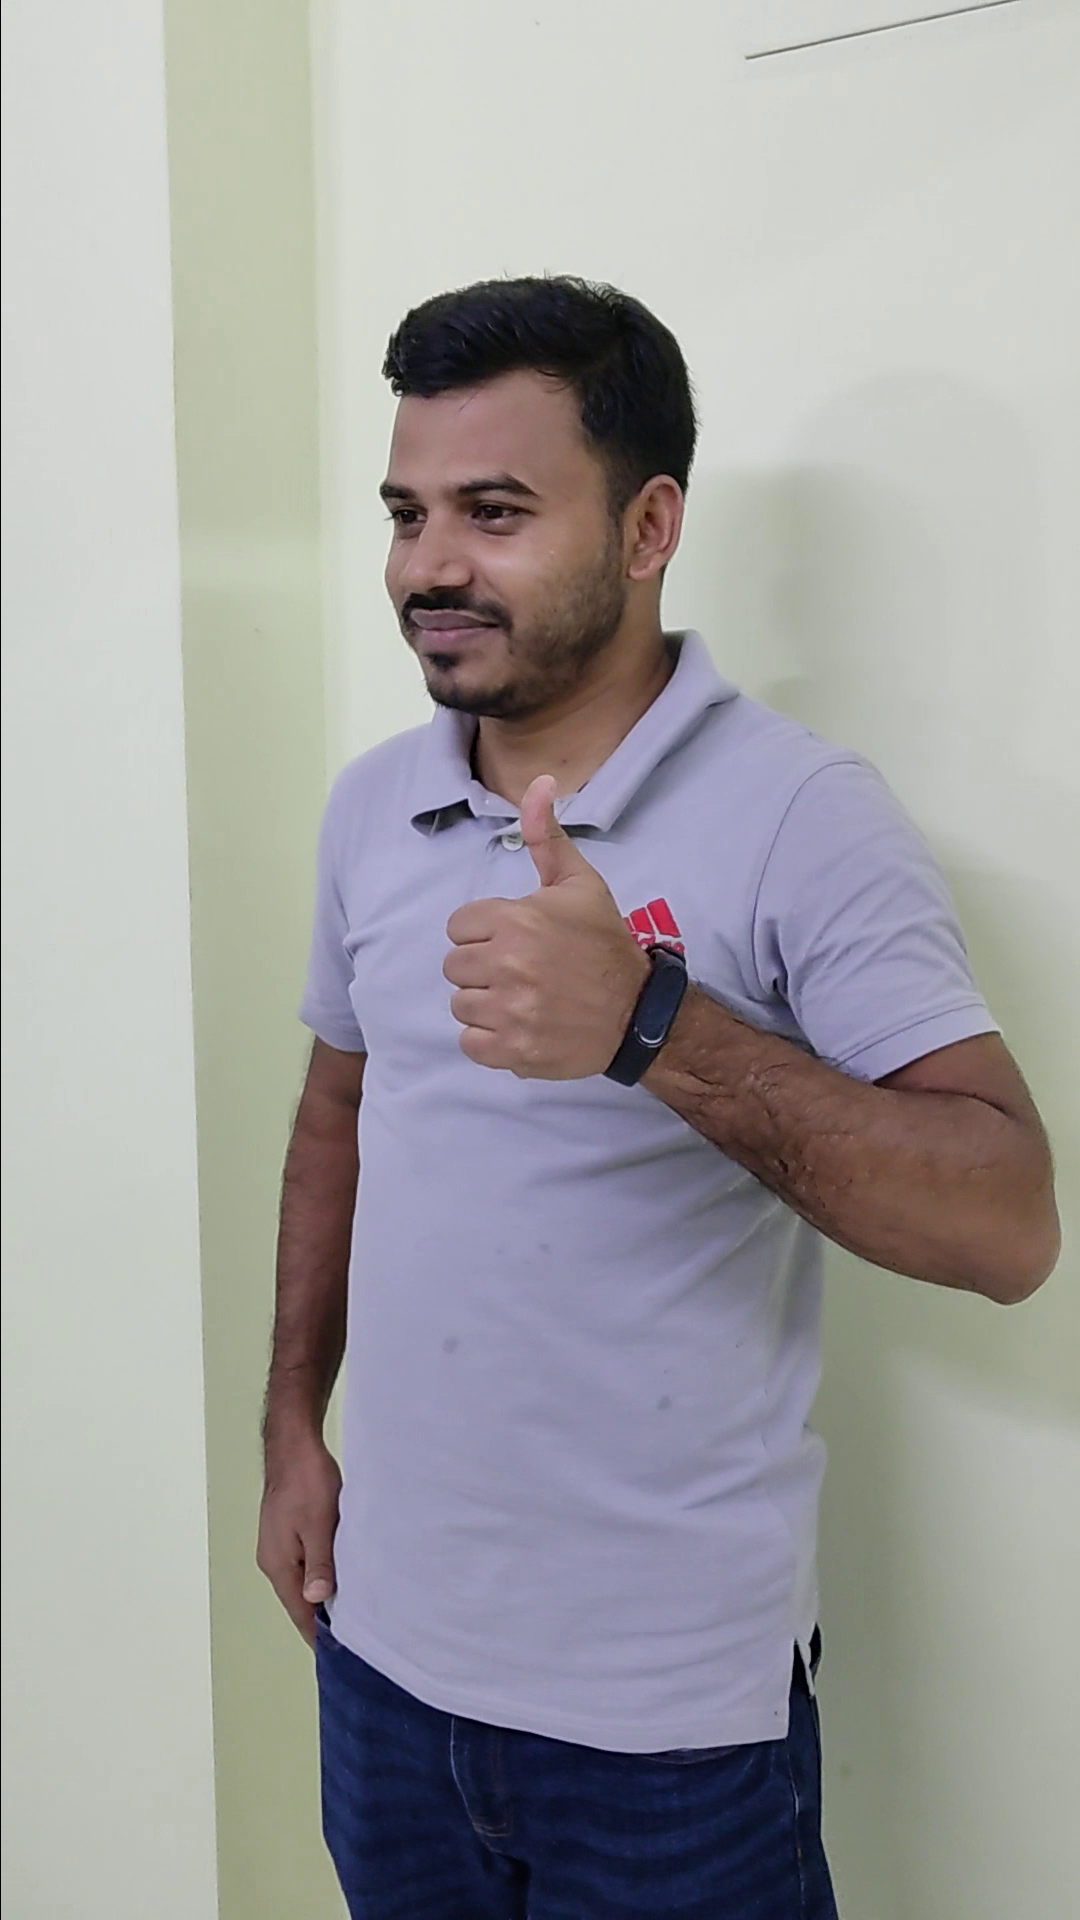Like: (417, 760, 661, 1097)
None: (222, 1377, 368, 1669)
